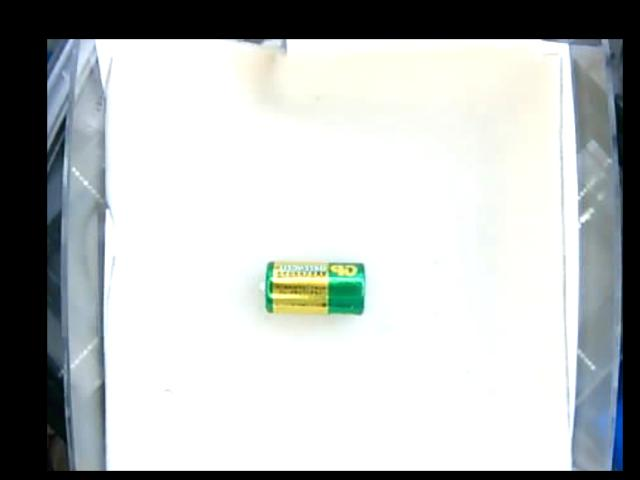Battery: (261, 260, 364, 316)
